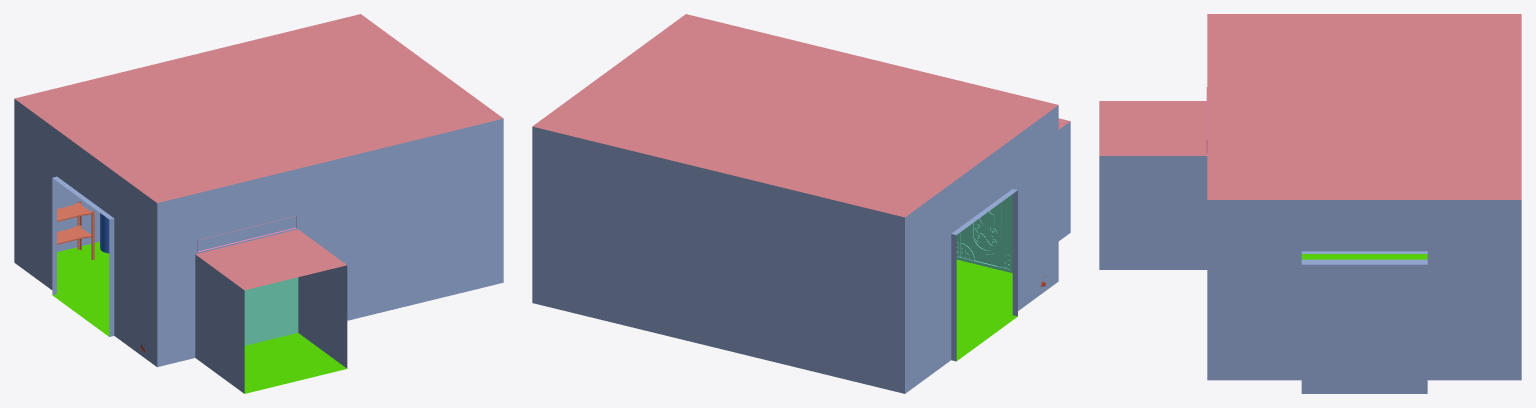
The model's file is RoomS3.fbx.
3 renders of one model, left to right at view 1: azimuth 30°, elevation 25°; view 2: azimuth 150°, elevation 25°; view 3: azimuth 270°, elevation 25°, orthographic. The views are drawn at different scales.
Parts seen in each view (by area): view 1: Plane.012, Plane.014, Plane.006, Двери.006, Cube.011; view 2: Plane.012, Plane.014, Plane.006, Двери.007; view 3: Plane.014, Plane.012, Cube.034, Plane.006.
Boxes of the visible parts, <box> form: Plane.012: <box>14,99,503,393</box>; Plane.014: <box>14,14,503,290</box>; Plane.006: <box>52,242,346,393</box>; Двери.006: <box>246,277,298,345</box>; Cube.011: <box>57,201,94,259</box>; Plane.012: <box>532,105,1070,393</box>; Plane.014: <box>532,14,1070,217</box>; Plane.006: <box>956,259,1017,360</box>; Двери.007: <box>959,194,1012,272</box>; Plane.014: <box>1099,14,1521,199</box>; Plane.012: <box>1099,156,1521,380</box>; Cube.034: <box>1301,259,1427,393</box>; Plane.006: <box>1301,254,1427,259</box>.
Bounding box in the file's own units: 761 × 317 × 672.
